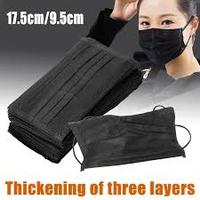flu mask: (68, 105, 193, 172), (137, 29, 186, 65)
